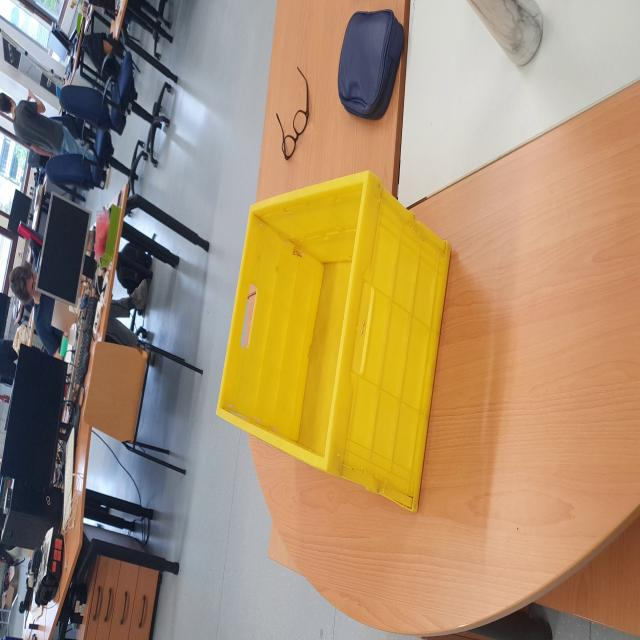box: (211, 163, 454, 542)
